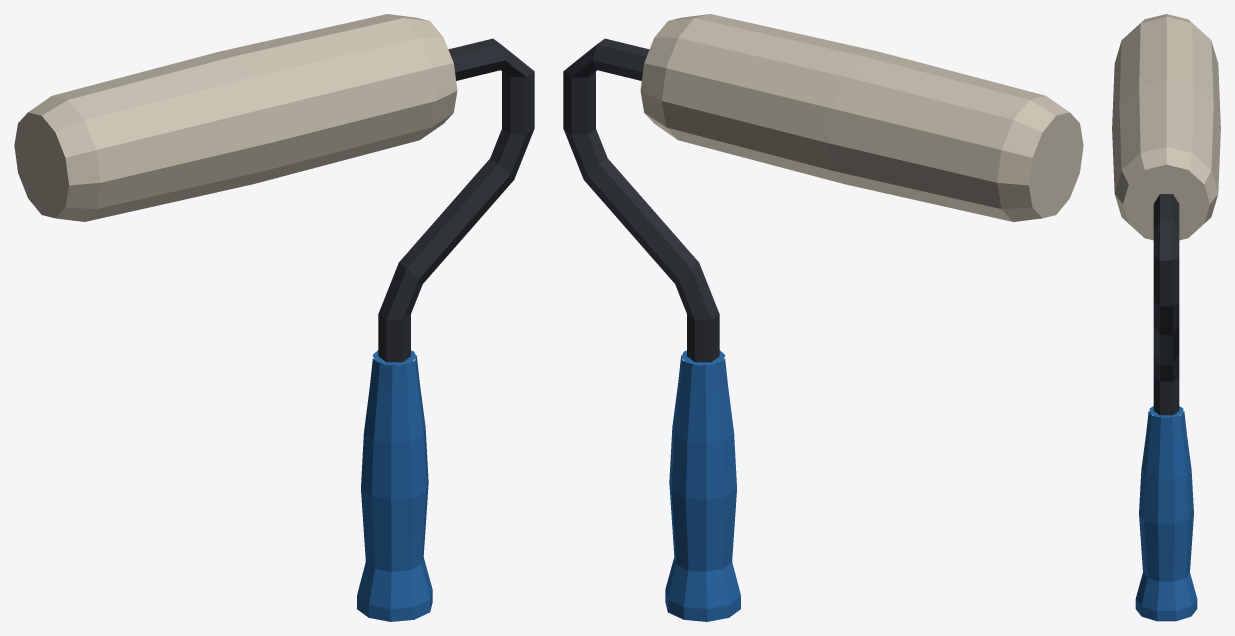
The model's file is paint-roller-4ad5c2.glb.
3 views of the same model, side by side, from view 1: azimuth 30°, elevation 25°; view 2: azimuth 150°, elevation 25°; view 3: azimuth 270°, elevation 25° (orthographic). The views are drawn at different scales.
Size of the model in its own units: 0.2769 by 0.3186 by 0.0672.
